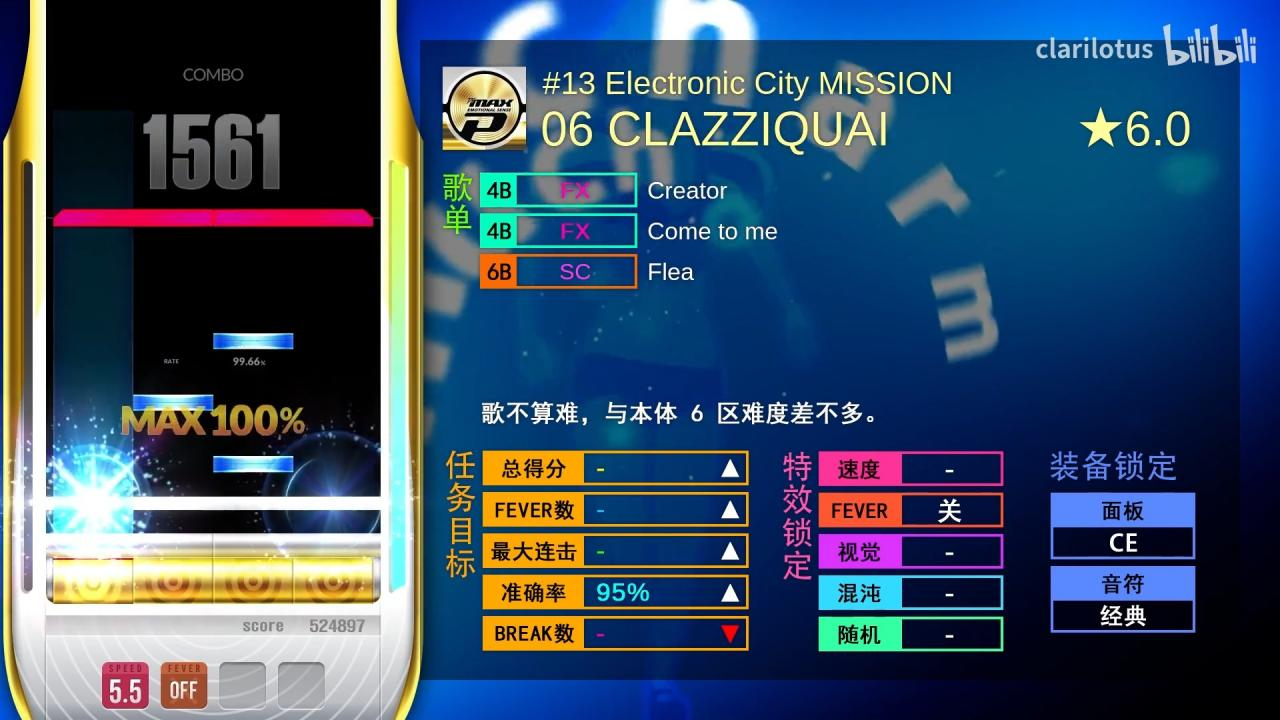note: (213, 455, 293, 473), (132, 394, 214, 410), (213, 333, 294, 349)
xnote: (54, 208, 214, 227), (214, 209, 374, 226)
